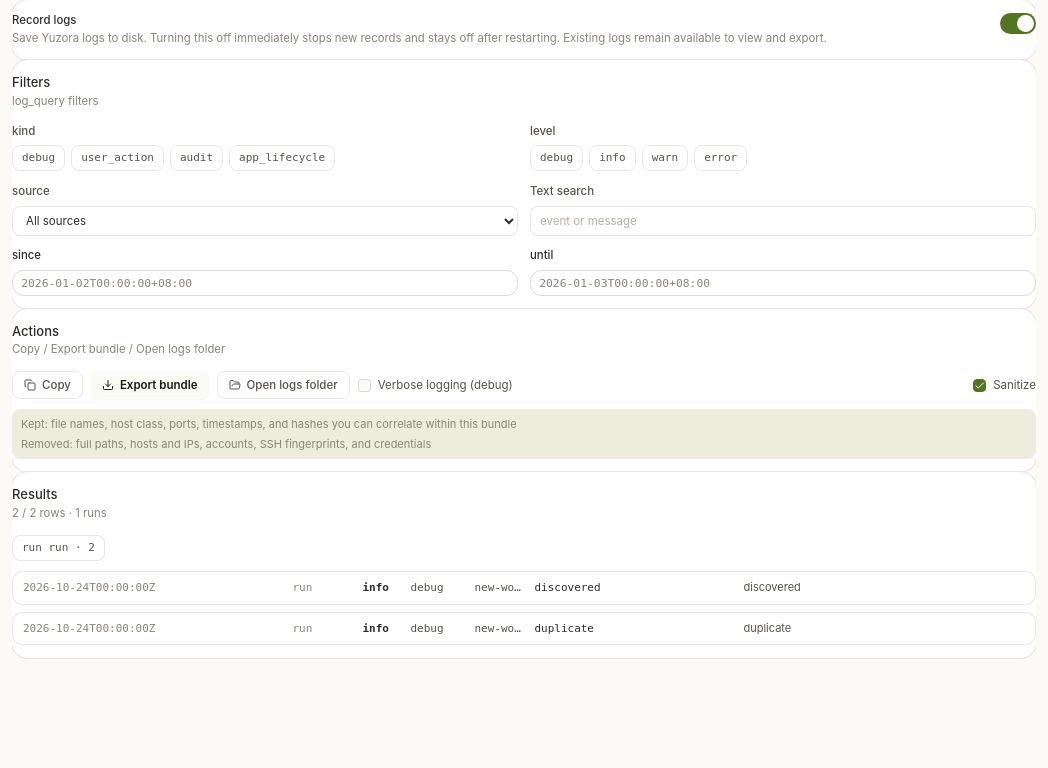
Test: merges a late source index and retains discovered sources across empty and replacement results
The image size is (1048, 768).
Expected: the button with test id "log-row-discovered" is shown, [13,572,1035,604]
Select "new-worker" in the dropdown named "source filter" at (265, 221), box [12,206,518,236]
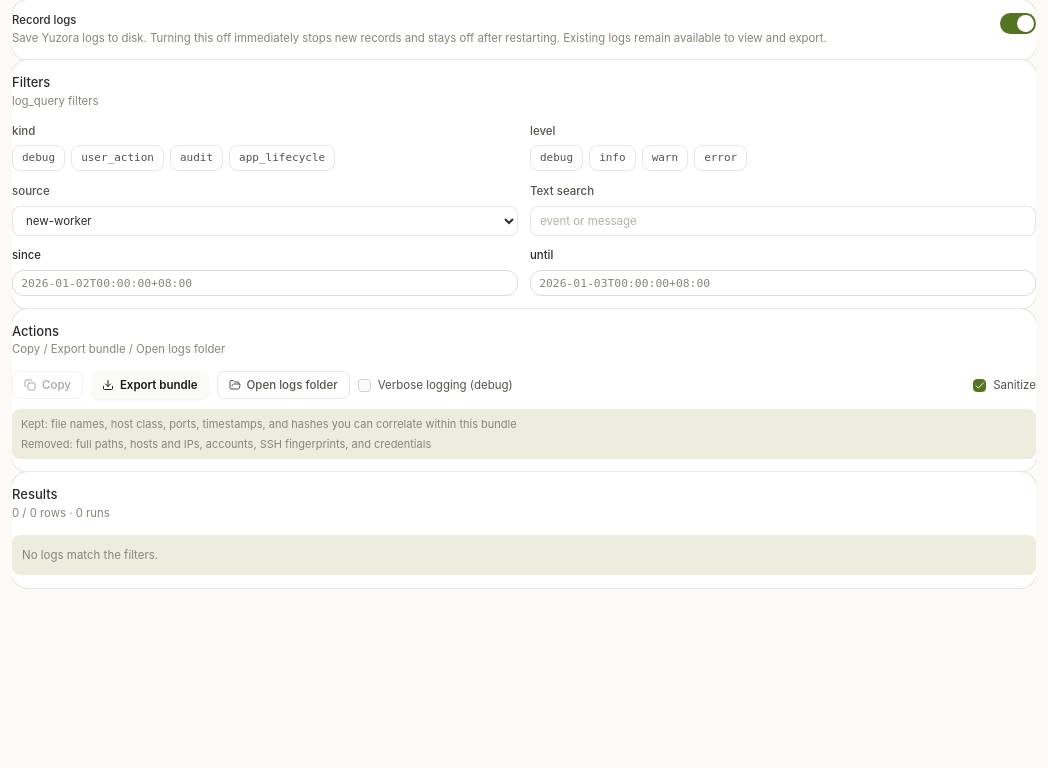
Expected: the button with test id "log-row-discovered" is gone
Select "All sources" in the dropdown named "source filter" at (265, 221), box [12,206,518,236]
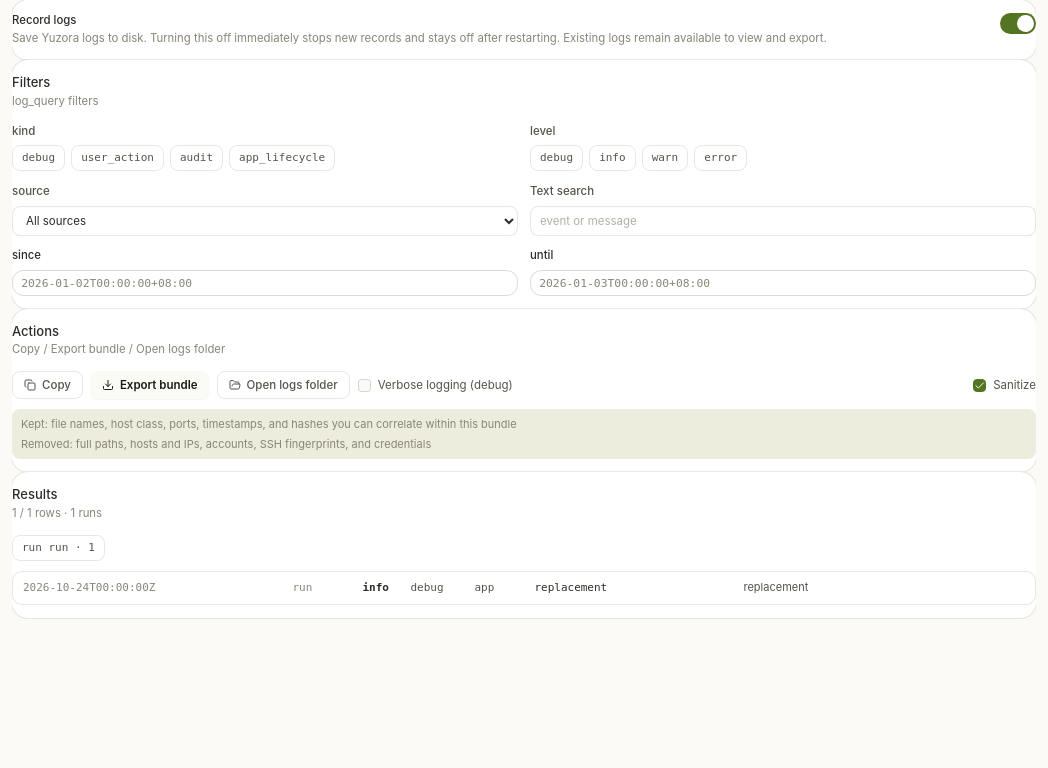
Expected: the button with test id "log-row-replacement" is shown, [13,572,1035,604]
